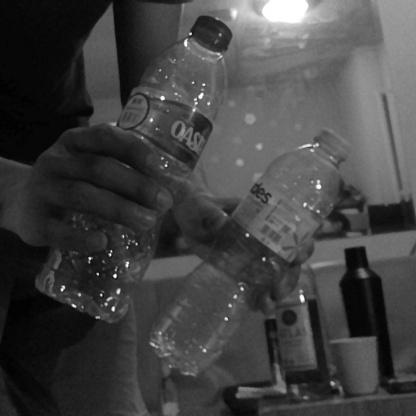plastic_bottles: (37, 12, 235, 313), (156, 116, 350, 372)
